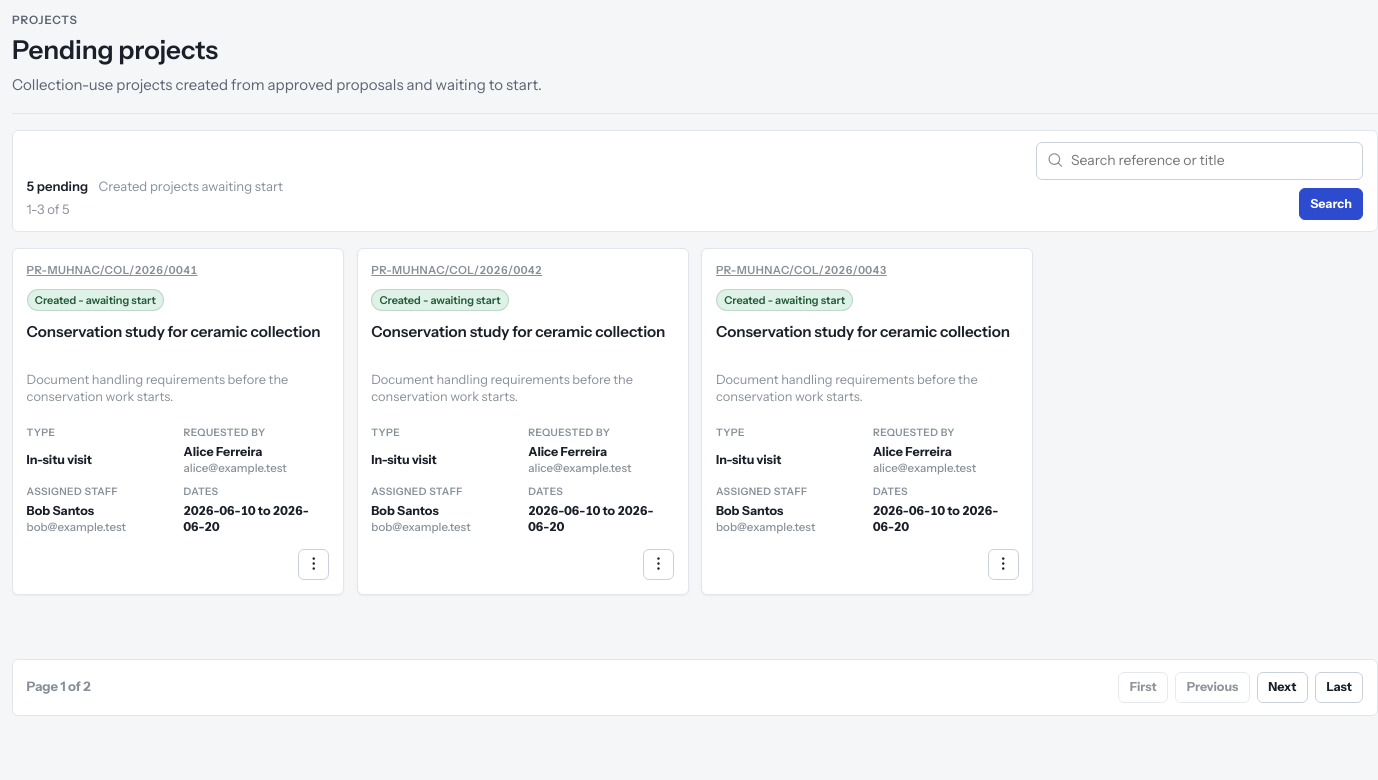
Test: ProjectsPendingPageComponent › applies and clears search from the first page
Click the button "Next": point(1282, 687) [1257,672,1308,703]
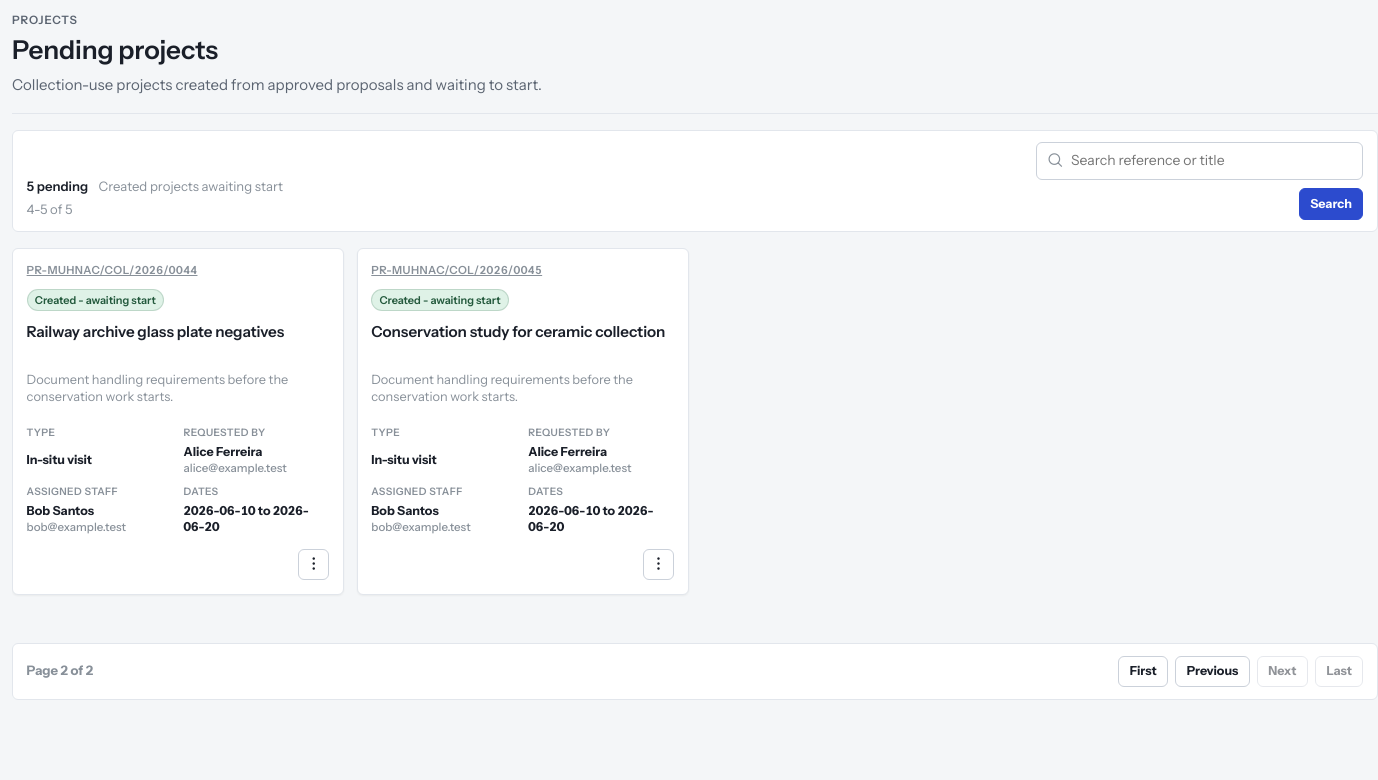
In the search field with placeholder "Search reference or title": point(1200, 161) [1036,142,1363,180], type "railway"
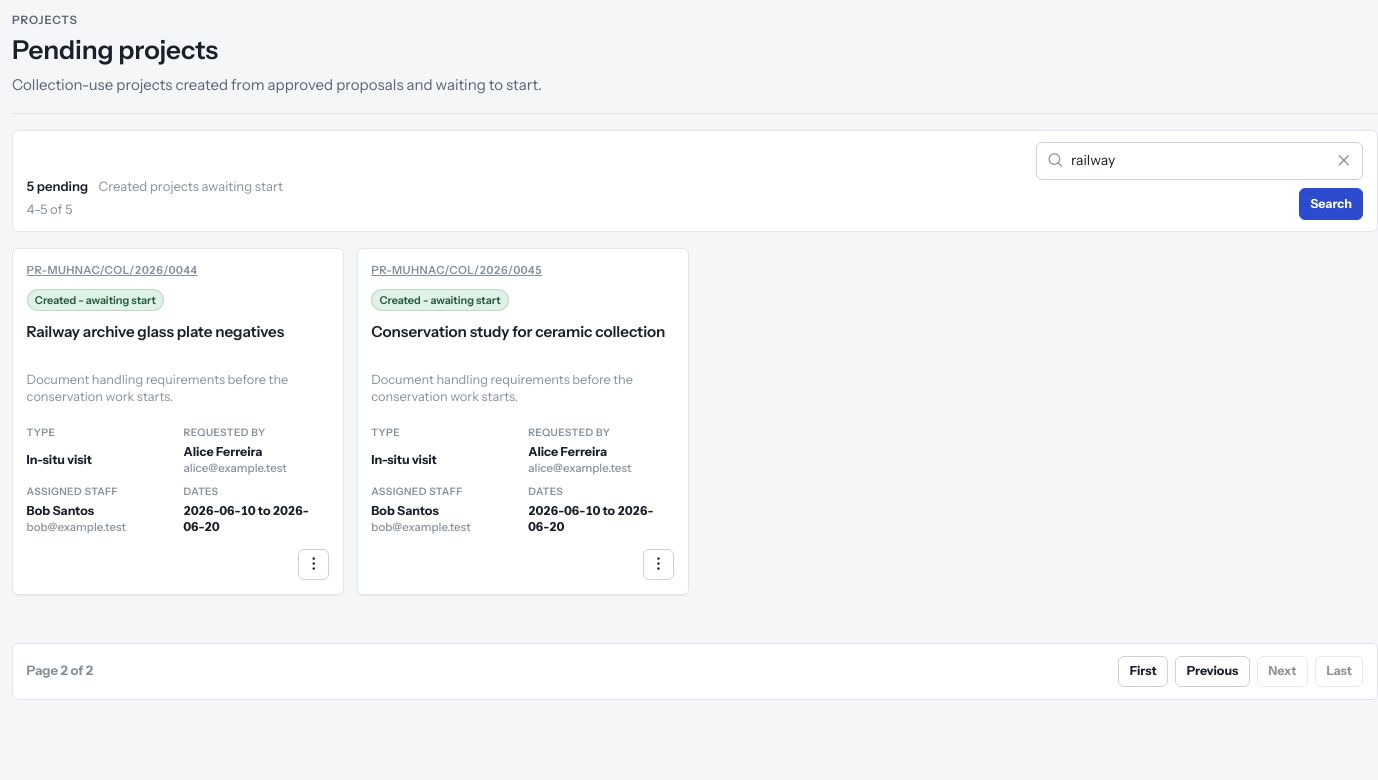
Click the button "Search": point(1331, 204) [1299,188,1363,220]
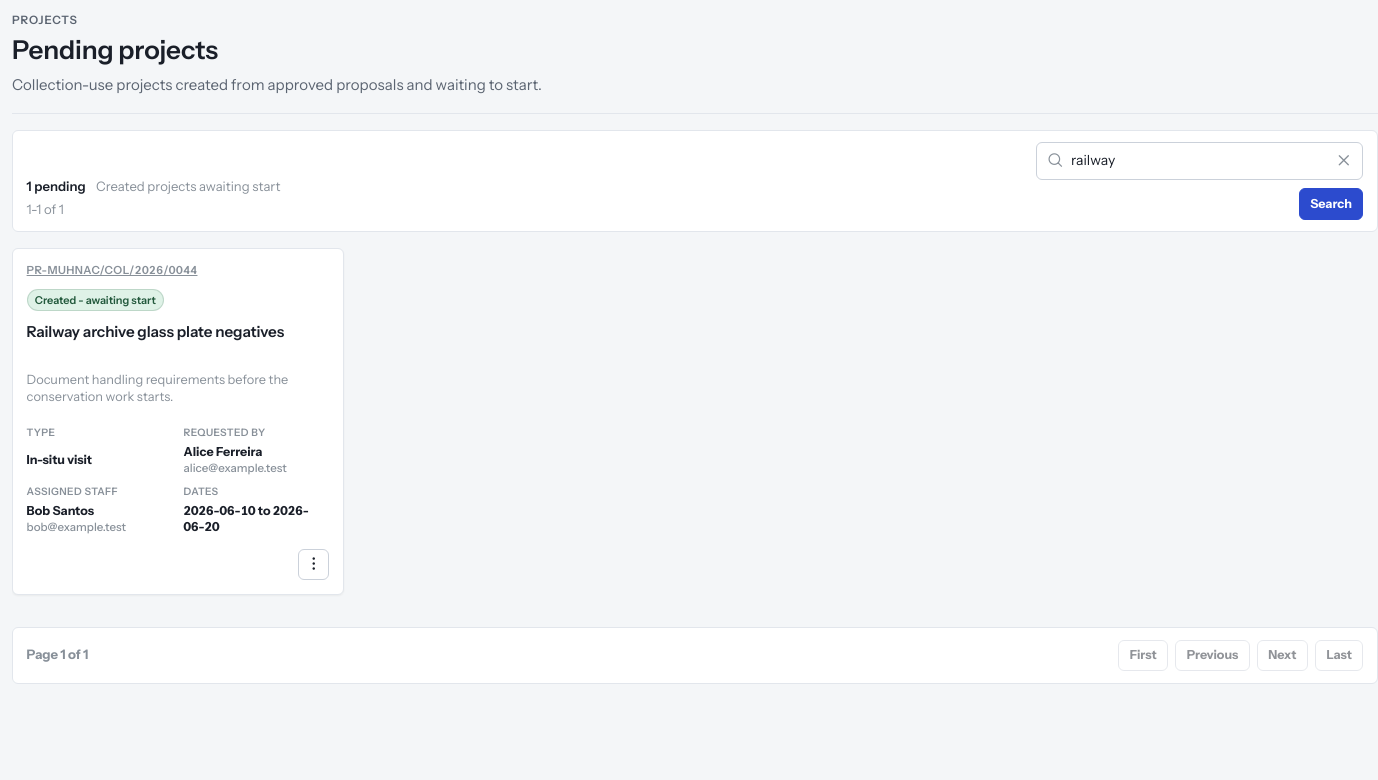
Check: the text "Railway archive glass plate negatives" is shown, box [27,322,284,341]
Check: the text "1-1 of 1" is shown, box [27,201,64,217]
Click the button named "Clear pending projects search": point(1344, 161) [1330,147,1358,175]
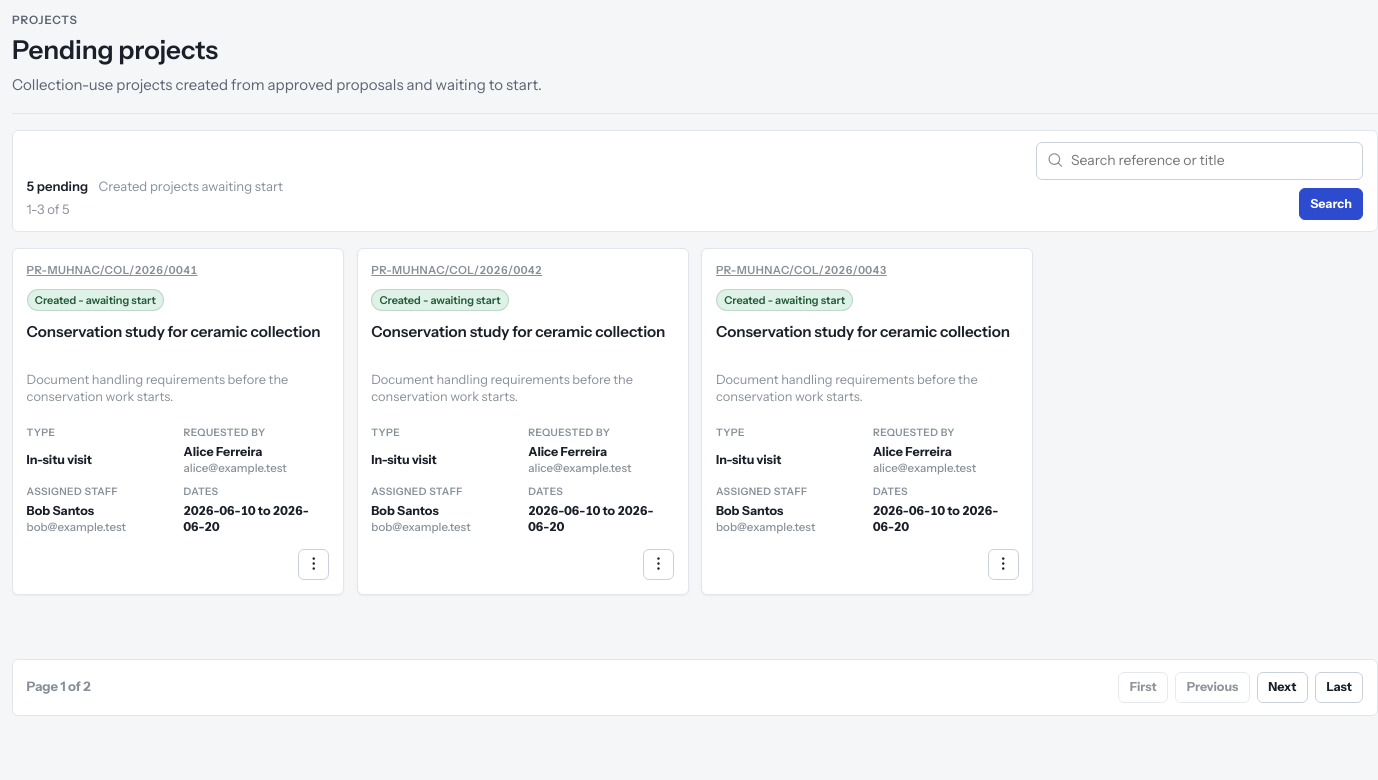
Check: the text "1-3 of 5" is shown, box [27,201,70,217]
